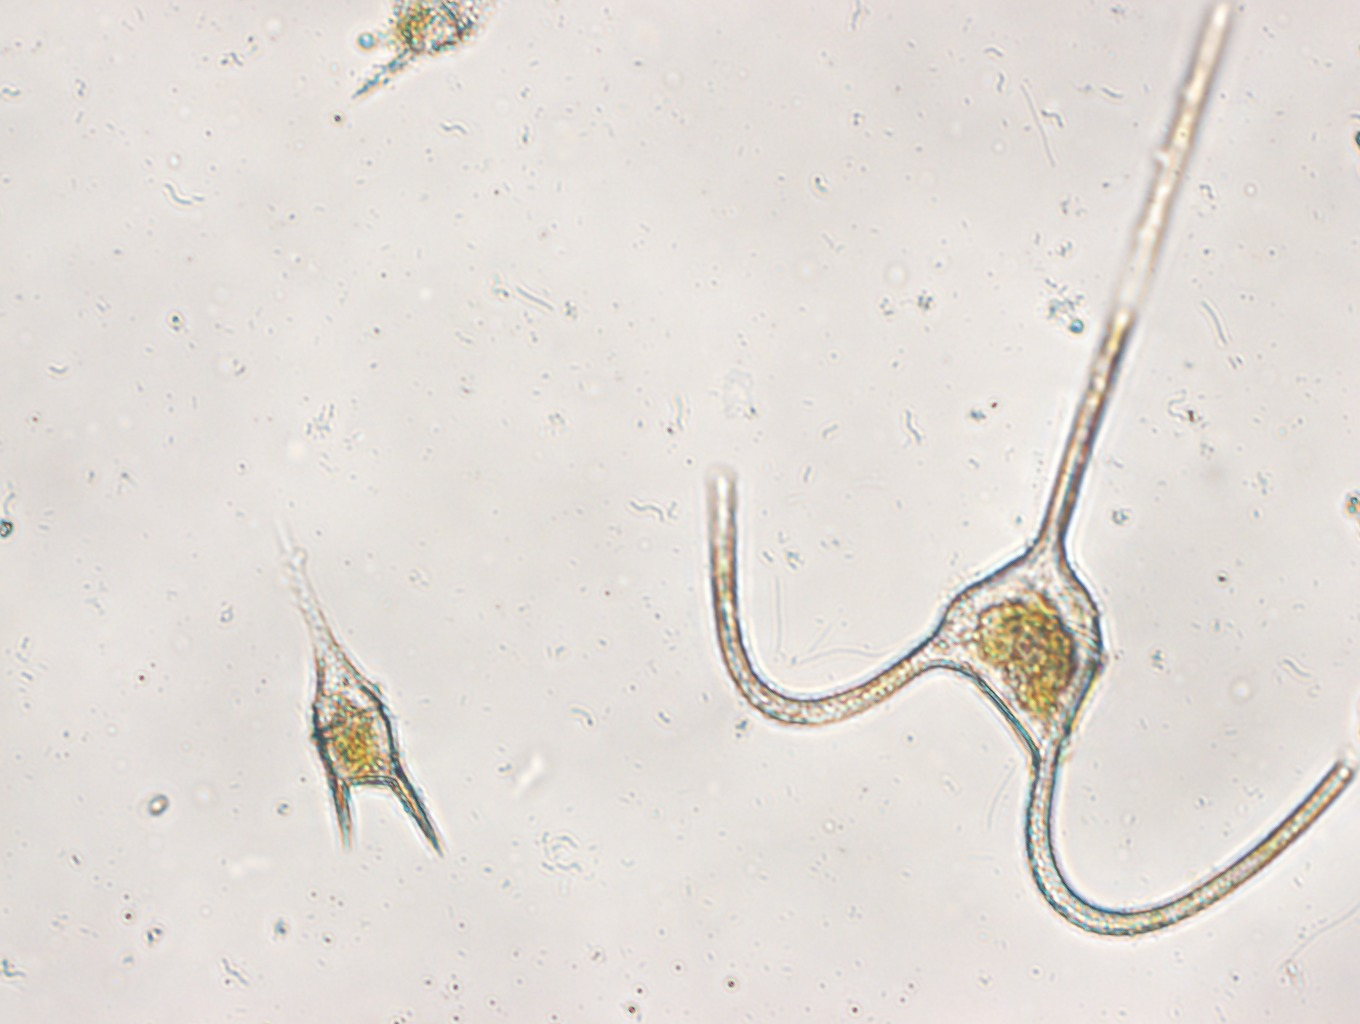ceratium furca: (280, 526, 450, 861)
ceratium trichoceros: (695, 1, 1358, 944)
